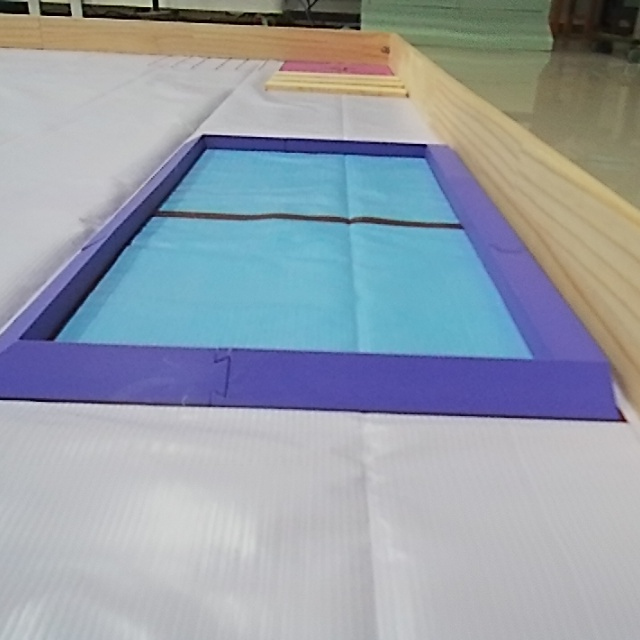zone2: (2, 122, 585, 464)
